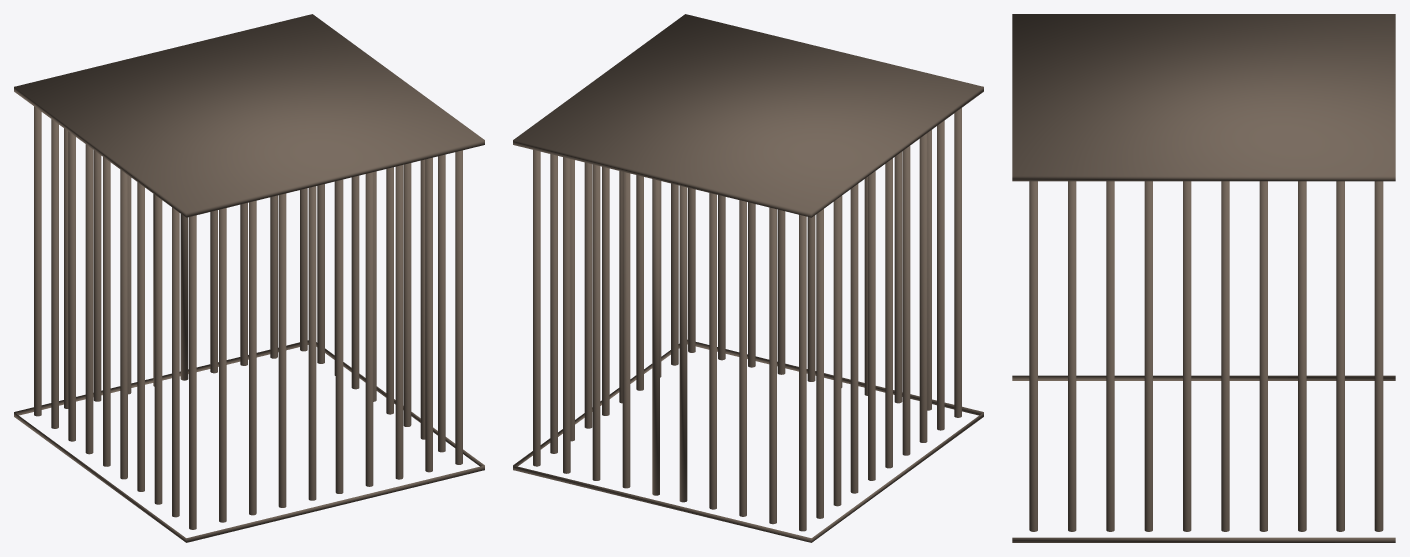
The model's file is BossCage.fbx.
3 views of the same model, side by side, from view 1: azimuth 30°, elevation 25°; view 2: azimuth 150°, elevation 25°; view 3: azimuth 270°, elevation 25° (orthographic). The views are drawn at different scales.
Parts seen in each view (by area): view 1: Cube.001; view 2: Cube.001; view 3: Cube.001.
Boxes of the visible parts, left/top/right/bottom form: Cube.001: left=14, top=14, right=484, bottom=542; Cube.001: left=513, top=14, right=983, bottom=542; Cube.001: left=1012, top=14, right=1395, bottom=542.
Size of the model in its own units: 10000 by 10559 by 10000.
